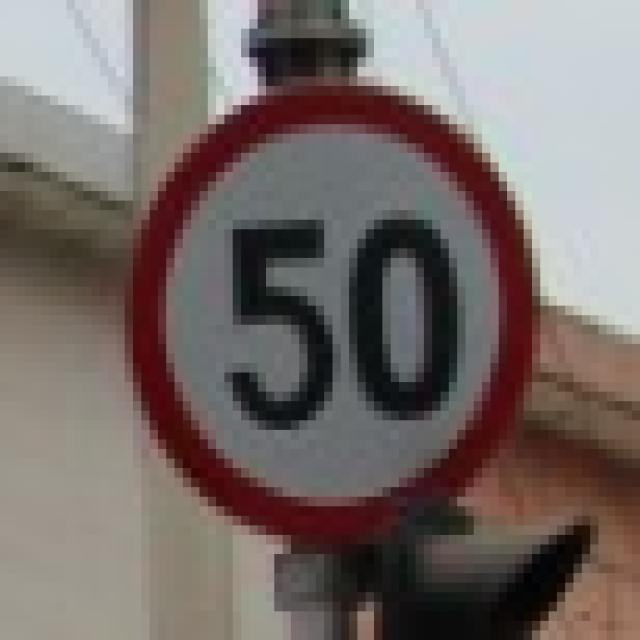Speed Limit -50-: (218, 205, 468, 436)
